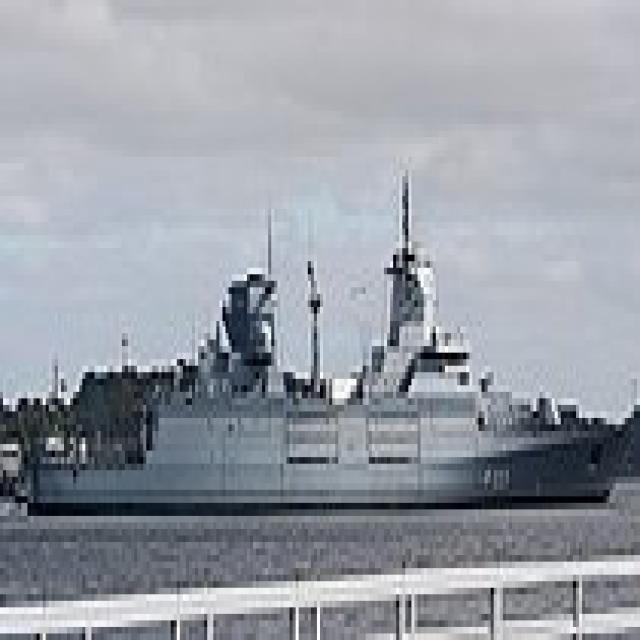Warship: (27, 157, 622, 516)
